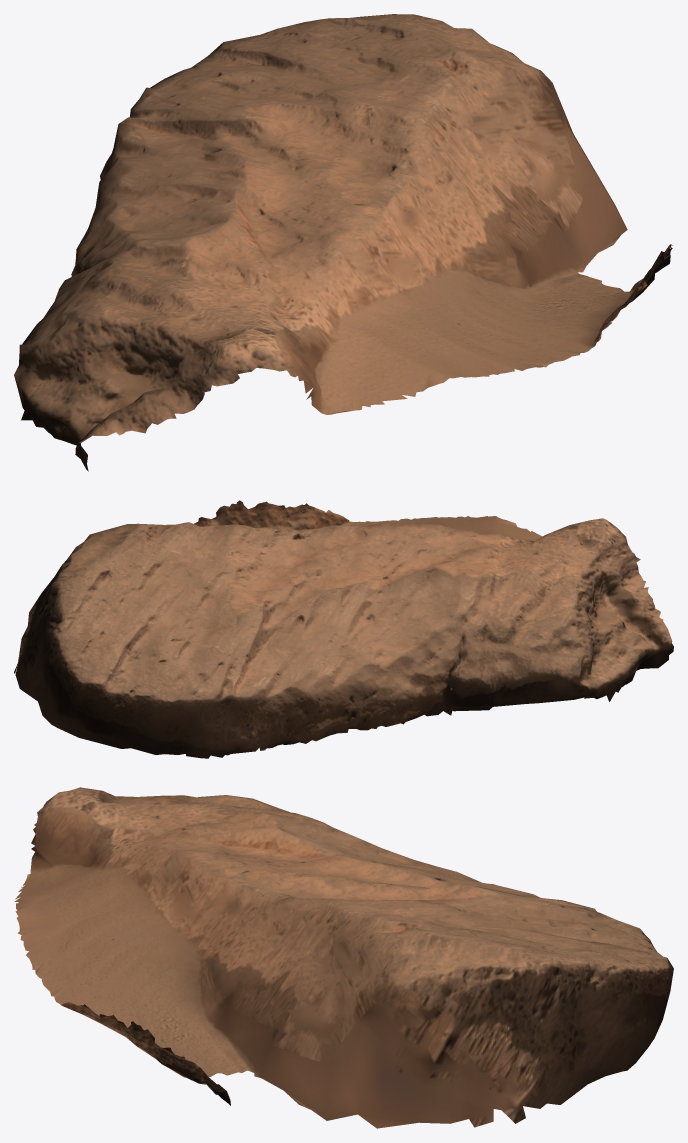
The model's file is mars-rock-rochette.glb.
3 views of the same model, one above another, from view 1: azimuth 30°, elevation 25°; view 2: azimuth 150°, elevation 25°; view 3: azimuth 270°, elevation 25° (orthographic). The views are drawn at different scales.
Parts seen in each view (by area): view 1: mars-rock-rochette_LOD0; view 2: mars-rock-rochette_LOD0; view 3: mars-rock-rochette_LOD0.
Part boxes in pixels (left/top/right/bottom): mars-rock-rochette_LOD0: left=14, top=14, right=672, bottom=471; mars-rock-rochette_LOD0: left=14, top=500, right=673, bottom=758; mars-rock-rochette_LOD0: left=14, top=787, right=673, bottom=1128.
Size of what is drawn, in the model's own units: 1.61 by 0.3961 by 1.58.
Materials: 1 (1 with a texture image).
